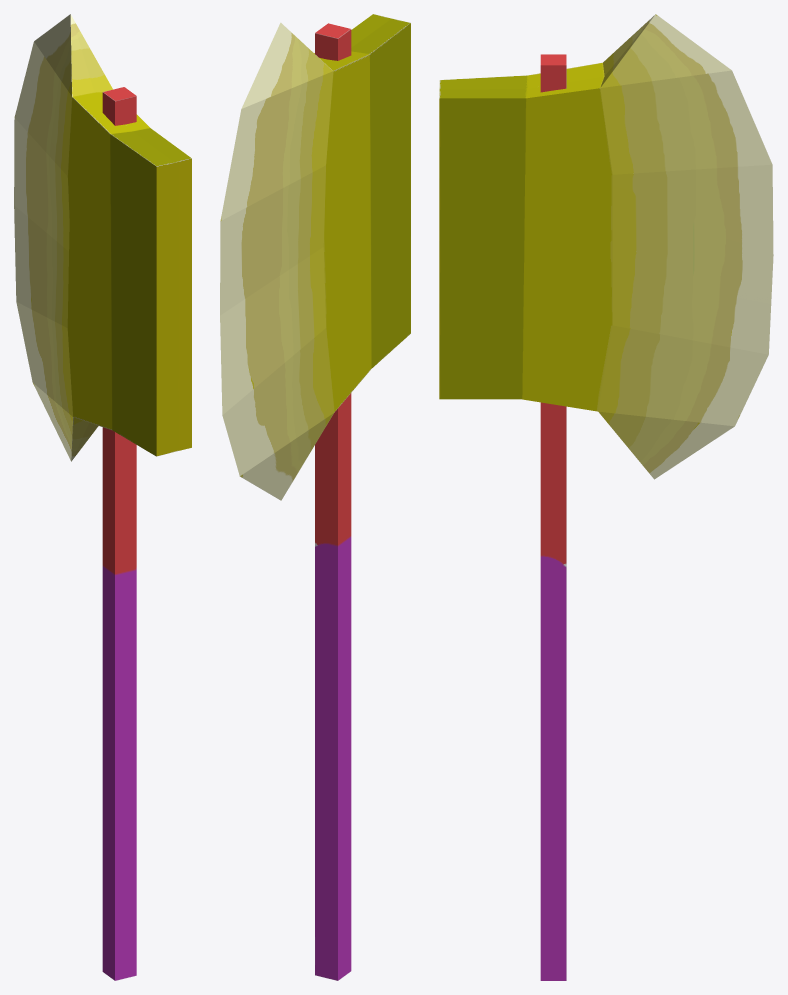
Rendered from GAxe.glb.
3 views of the same model, side by side, from view 1: azimuth 30°, elevation 25°; view 2: azimuth 150°, elevation 25°; view 3: azimuth 270°, elevation 25° (orthographic). The views are drawn at different scales.
Visible parts, largest first — view 1: GoldenAxe; view 2: GoldenAxe; view 3: GoldenAxe.
Part boxes in pixels (x1,y1,x2,y2): GoldenAxe: (14, 14, 191, 980); GoldenAxe: (220, 14, 410, 980); GoldenAxe: (439, 14, 773, 980).
Size of the model in its own units: 0.0983 by 2.1 by 0.6613.
Materials: 2 (2 with a texture image).
